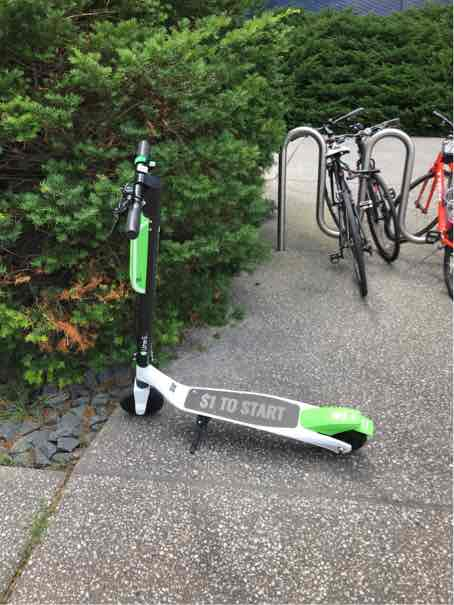scooter: (94, 120, 376, 464)
